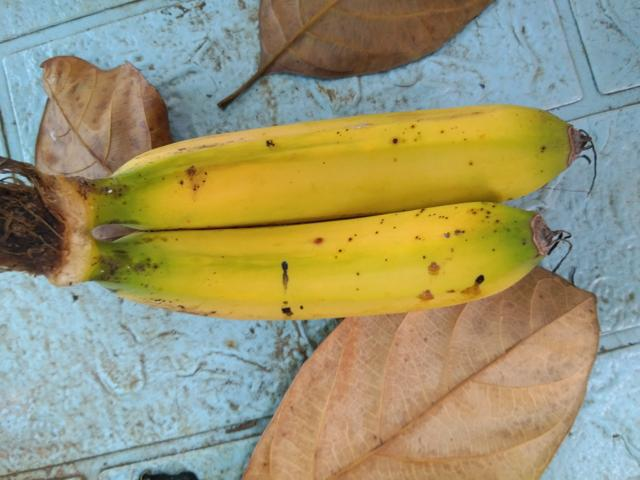ripe: (75, 89, 578, 233), (83, 205, 583, 341)
